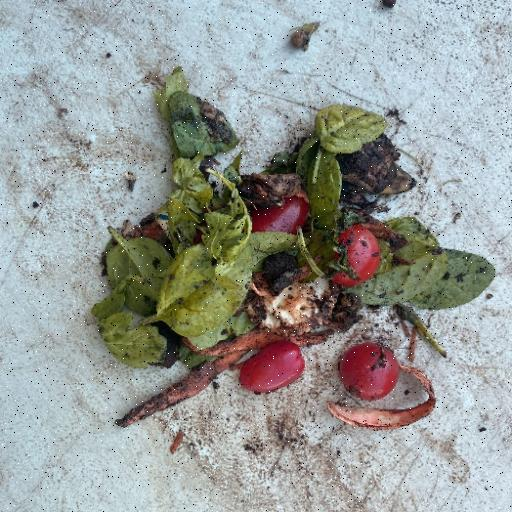Waste: (90, 66, 494, 432), (324, 362, 436, 430)
